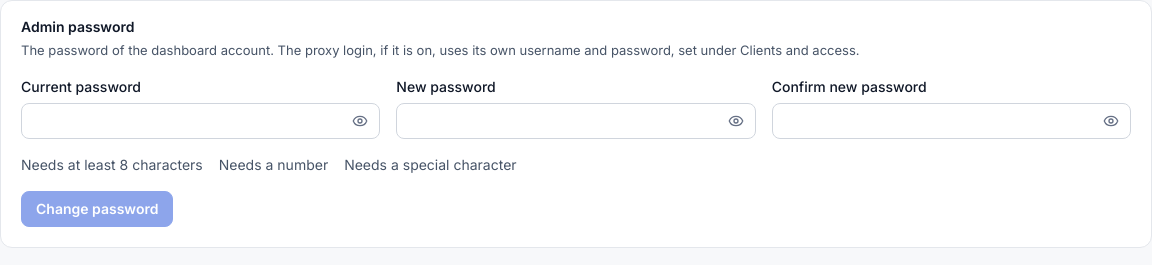
Test: ChangePassword uses the shared password rule › shows which requirements are met
Step 1. Type "abcdefgh" into the password field labelled "New password" → (576, 120), box x1=396 y1=102 x2=756 y2=138
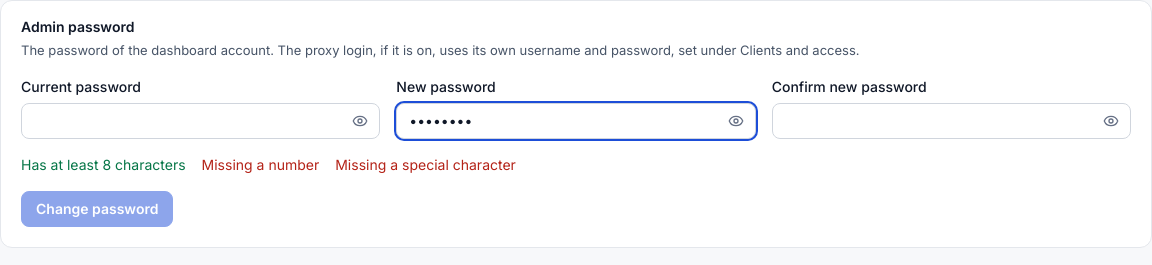
Expected: the list named "Password rules" shows "Has at least 8 characters", x1=21 y1=156 x2=516 y2=172
Expected: the list named "Password rules" shows "Missing a number", x1=21 y1=156 x2=516 y2=172
Expected: the list named "Password rules" shows "Missing a special character", x1=21 y1=156 x2=516 y2=172
